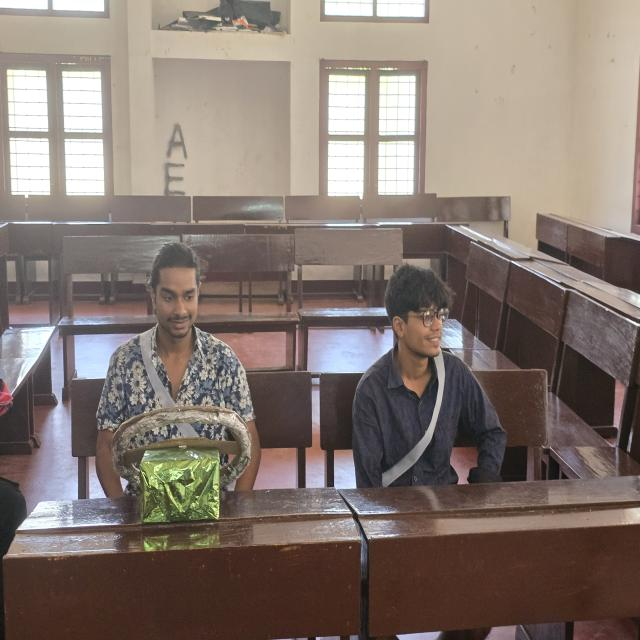seatbelt: (106, 329, 247, 493), (356, 353, 476, 492)
